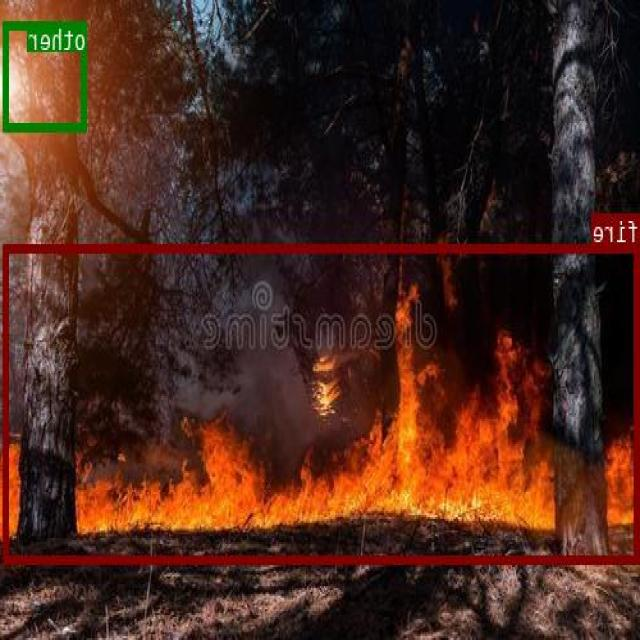fire: (5, 242, 640, 563)
other: (5, 20, 87, 130)
